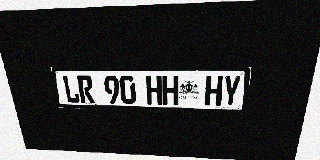0: (119, 75, 136, 104)
9: (103, 75, 121, 104)
H: (204, 75, 223, 106), (146, 75, 162, 105), (162, 75, 178, 105)
L: (62, 75, 80, 103)
R: (77, 75, 95, 103)
Y: (221, 76, 241, 106)
